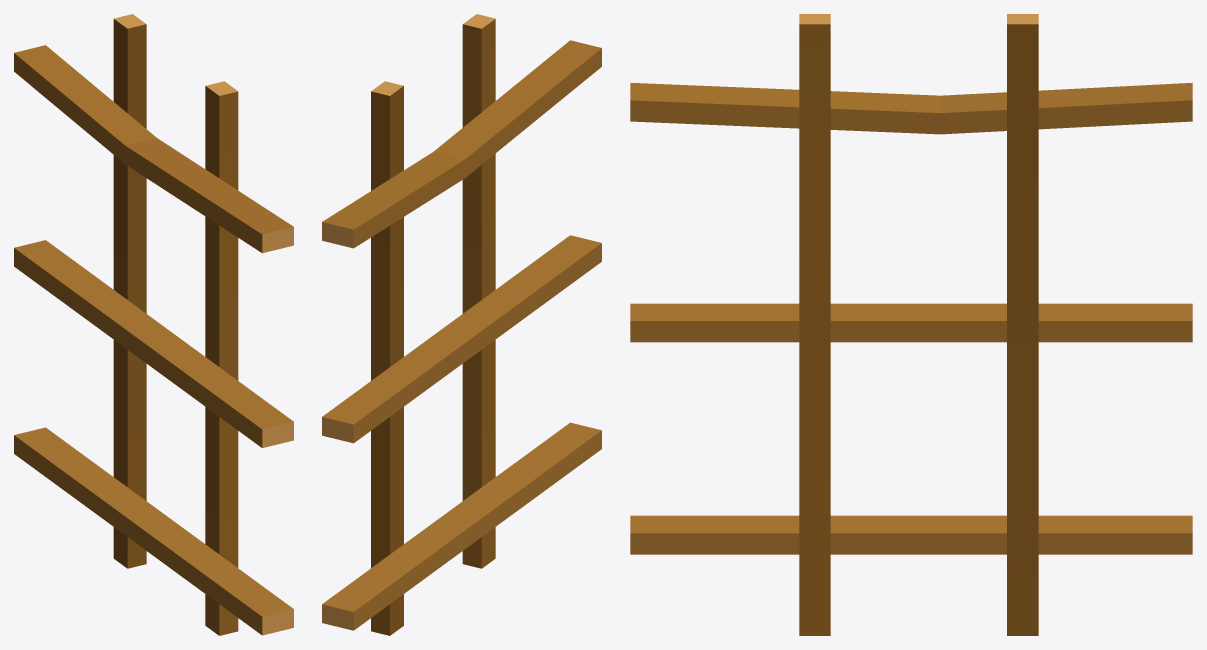
The model's file is WoodFrame_1_1.obj.
3 renders of one model, left to right at view 1: azimuth 30°, elevation 25°; view 2: azimuth 150°, elevation 25°; view 3: azimuth 270°, elevation 25°, orthographic. The views are drawn at different scales.
Parts seen in each view (by area): view 1: WoodFrame_1_1; view 2: WoodFrame_1_1; view 3: WoodFrame_1_1.
Boxes of the visible parts, x1=… form: WoodFrame_1_1: x1=14, y1=14, x2=293, y2=635; WoodFrame_1_1: x1=322, y1=14, x2=601, y2=635; WoodFrame_1_1: x1=630, y1=14, x2=1192, y2=635.
Bounding box in the file's own units: 0.2357 × 2.4 × 2.
